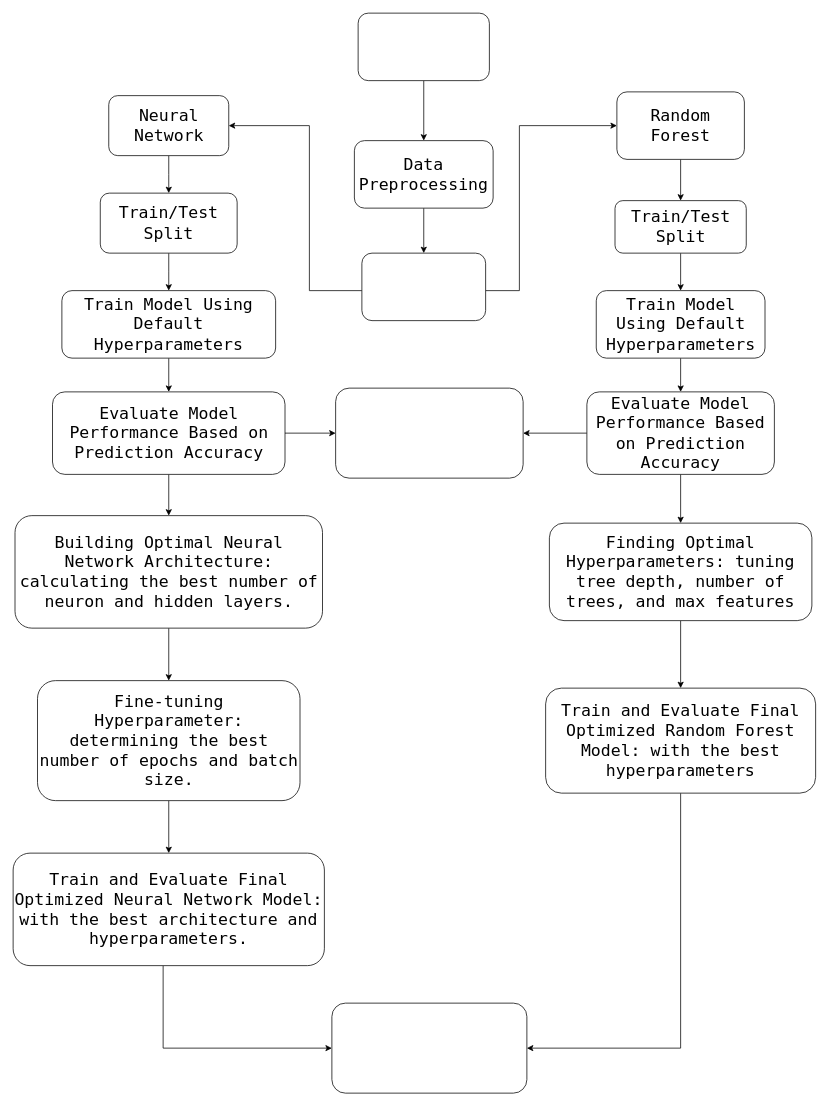
This 829x1106 diagram has some shape labels left out. Each missing label, with the box of its shape:
Appropriate Packages: (357, 12, 489, 81)
Compare the Two Default Models Across Multiple Iterations: (335, 387, 523, 478)
Compare the Two Optimized Models Across Multiple Iterations: (331, 1002, 527, 1093)
Machine Learning Algorithms: (361, 252, 486, 321)
